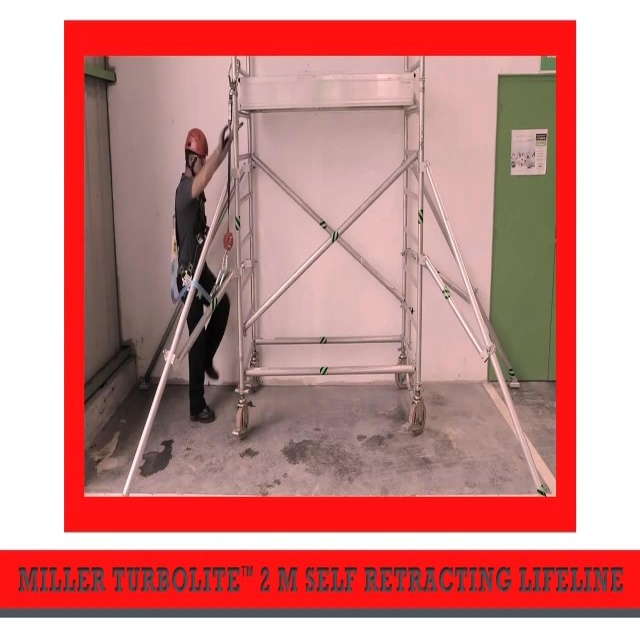Arnes_seguridad: (170, 162, 211, 313)
